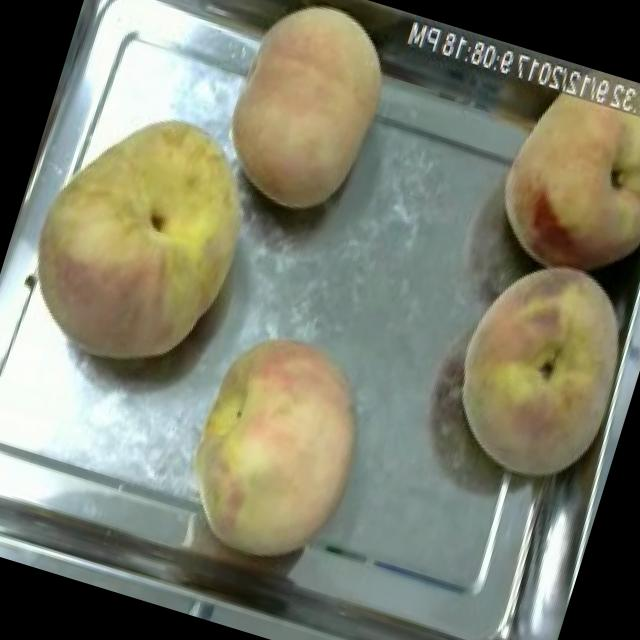Fruit: (0, 72, 283, 398), (155, 308, 393, 584), (421, 229, 640, 504), (197, 0, 416, 236), (470, 79, 640, 307)
